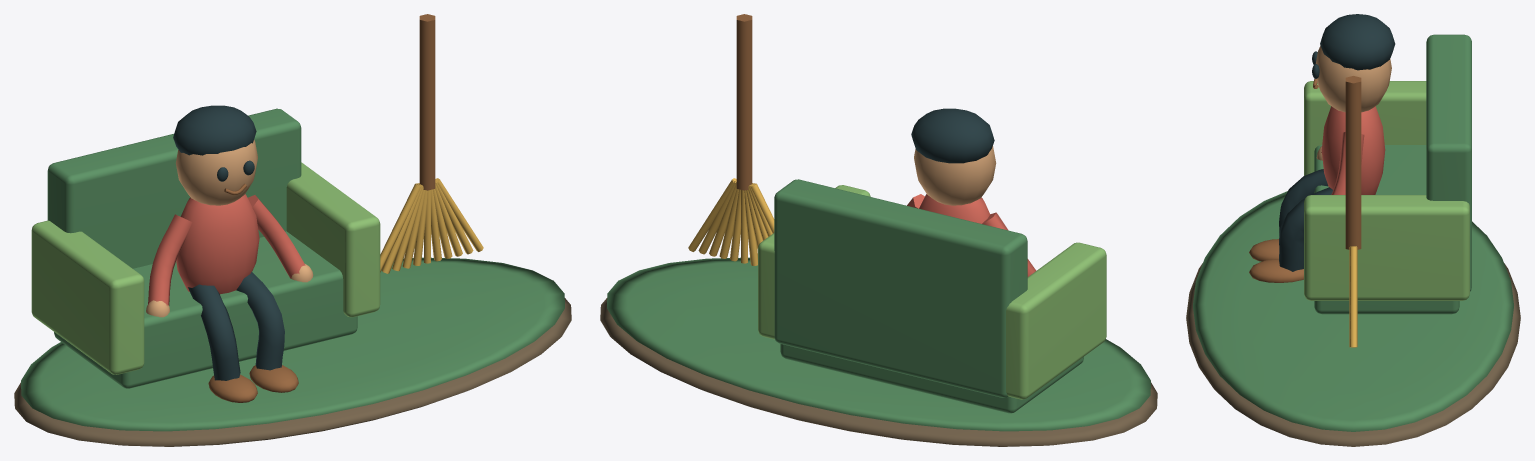
The model's file is lazy-rest.glb.
The picture shows the model from 3 angles, left to right: view 1: azimuth 30°, elevation 25°; view 2: azimuth 150°, elevation 25°; view 3: azimuth 270°, elevation 25°; orthographic projection.
Parts seen in each view (by area): view 1: lazy-rest_surface_01, lazy-rest_surface_06, lazy-rest_surface_05, lazy-rest_surface_00, lazy-rest_surface_03, lazy-rest_surface_07, lazy-rest_surface_04, lazy-rest_surface_02; view 2: lazy-rest_surface_01, lazy-rest_surface_06, lazy-rest_surface_00, lazy-rest_surface_07, lazy-rest_surface_03, lazy-rest_surface_02, lazy-rest_surface_04, lazy-rest_surface_05; view 3: lazy-rest_surface_01, lazy-rest_surface_06, lazy-rest_surface_00, lazy-rest_surface_03, lazy-rest_surface_04, lazy-rest_surface_05, lazy-rest_surface_02, lazy-rest_surface_07.
Part boxes in pixels (left/top/right/bottom): lazy-rest_surface_01: left=21, top=108, right=564, bottom=431; lazy-rest_surface_06: left=31, top=162, right=380, bottom=374; lazy-rest_surface_05: left=148, top=194, right=305, bottom=305; lazy-rest_surface_00: left=14, top=298, right=571, bottom=446; lazy-rest_surface_03: left=173, top=105, right=284, bottom=380; lazy-rest_surface_07: left=380, top=178, right=483, bottom=273; lazy-rest_surface_04: left=208, top=14, right=435, bottom=402; lazy-rest_surface_02: left=146, top=140, right=313, bottom=317; lazy-rest_surface_01: left=607, top=179, right=1150, bottom=431; lazy-rest_surface_06: left=758, top=185, right=1106, bottom=399; lazy-rest_surface_00: left=600, top=298, right=1157, bottom=446; lazy-rest_surface_07: left=688, top=178, right=774, bottom=265; lazy-rest_surface_03: left=911, top=108, right=994, bottom=163; lazy-rest_surface_02: left=914, top=146, right=996, bottom=205; lazy-rest_surface_04: left=736, top=14, right=752, bottom=190; lazy-rest_surface_05: left=907, top=194, right=1036, bottom=276; lazy-rest_surface_01: left=1193, top=34, right=1513, bottom=431; lazy-rest_surface_06: left=1304, top=81, right=1469, bottom=300; lazy-rest_surface_00: left=1186, top=263, right=1520, bottom=446; lazy-rest_surface_03: left=1279, top=14, right=1395, bottom=271; lazy-rest_surface_04: left=1249, top=76, right=1361, bottom=282; lazy-rest_surface_05: left=1321, top=106, right=1385, bottom=194; lazy-rest_surface_02: left=1315, top=45, right=1391, bottom=160; lazy-rest_surface_07: left=1349, top=246, right=1357, bottom=347.
Size of the model in its own units: 4.56 by 2.63 by 2.5.
